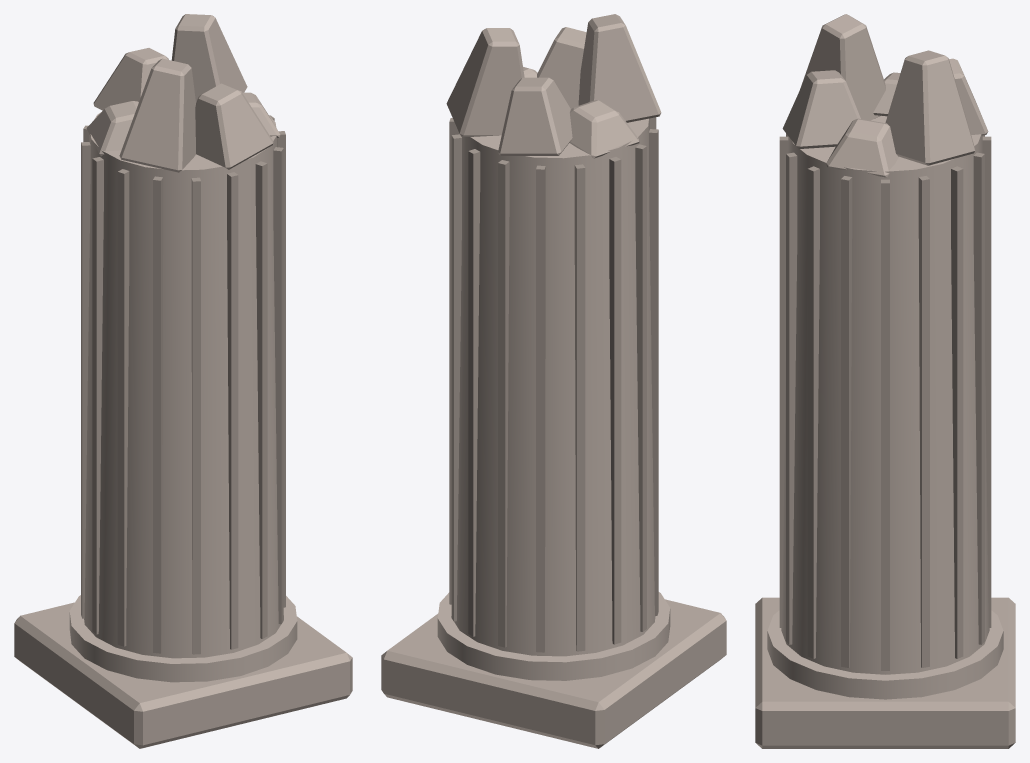
The model's file is column_broken.glb.
The picture shows the model from 3 angles, left to right: view 1: azimuth 30°, elevation 25°; view 2: azimuth 150°, elevation 25°; view 3: azimuth 270°, elevation 25°; orthographic projection. The views are drawn at different scales.
Parts seen in each view (by area): view 1: marble.001, marble*0.9, marble, marble*0.018, marble*0.007, marble*0.004, marble*0.003, marble*0.006, marble*0.008, marble*0.017, marble*0.005, marble*0.002 (+5 smaller); view 2: marble.001, marble*0.9, marble, marble*0.021, marble*0.018, marble*0.010, marble*0.011, marble*0.013, marble*0.014, marble*0.012, marble*0.020, marble*0.008 (+5 smaller); view 3: marble.001, marble*0.9, marble*0.021, marble, marble*0.002, marble*0.015, marble*0.001, marble*0.016, marble*0.003, marble*0.014, marble*0.018, marble*0.75 (+6 smaller).
Part boxes in pixels (<box>): marble.001: <box>84,112,283,658</box>; marble*0.9: <box>14,602,352,748</box>; marble: <box>69,595,297,682</box>; marble*0.018: <box>119,58,195,172</box>; marble*0.007: <box>117,169,129,646</box>; marble*0.004: <box>227,172,238,649</box>; marble*0.003: <box>255,161,267,638</box>; marble*0.006: <box>153,176,163,653</box>; marble*0.008: <box>92,157,103,634</box>; marble*0.017: <box>195,83,273,169</box>; marble*0.005: <box>191,177,200,654</box>; marble*0.002: <box>273,147,283,624</box>; marble.001: <box>451,118,655,656</box>; marble*0.9: <box>381,599,726,748</box>; marble: <box>437,592,670,680</box>; marble*0.021: <box>446,28,524,136</box>; marble*0.018: <box>578,14,661,122</box>; marble*0.010: <box>609,157,621,644</box>; marble*0.011: <box>574,164,585,651</box>; marble*0.013: <box>498,160,509,647</box>; marble*0.014: <box>468,149,480,636</box>; marble*0.012: <box>536,165,545,652</box>; marble*0.020: <box>498,77,572,155</box>; marble*0.008: <box>635,144,646,631</box>; marble.001: <box>781,115,989,674</box>; marble*0.9: <box>755,597,1015,748</box>; marble*0.021: <box>885,50,975,165</box>; marble: <box>767,610,1003,699</box>; marble*0.002: <box>807,166,819,658</box>; marble*0.015: <box>951,166,963,658</box>; marble*0.001: <box>841,176,852,667</box>; marble*0.016: <box>918,176,929,667</box>; marble*0.003: <box>786,152,797,644</box>; marble*0.014: <box>973,152,984,644</box>; marble*0.018: <box>800,14,885,120</box>; marble*0.75: <box>881,179,889,670</box>.
Bounding box in the file's own units: 1.5 × 4.19 × 1.5.
